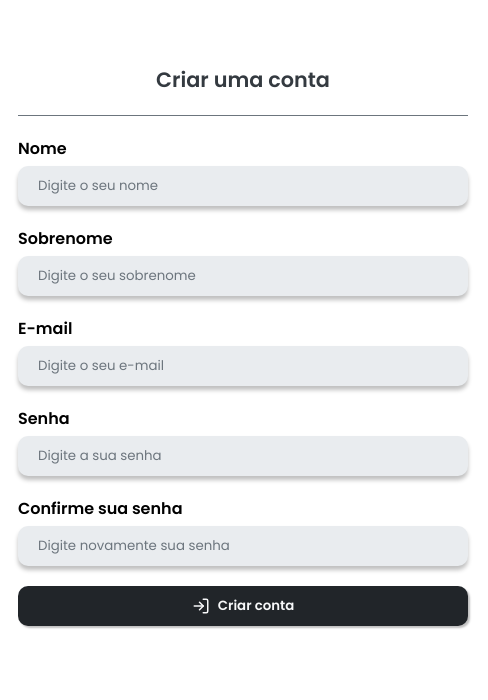
Test: Sign Up › should show error when password and password confirmation are different
Type "12345678" into the password field with placeholder "Digite a sua senha". click: (243, 456)
box: [18,436,468,476]
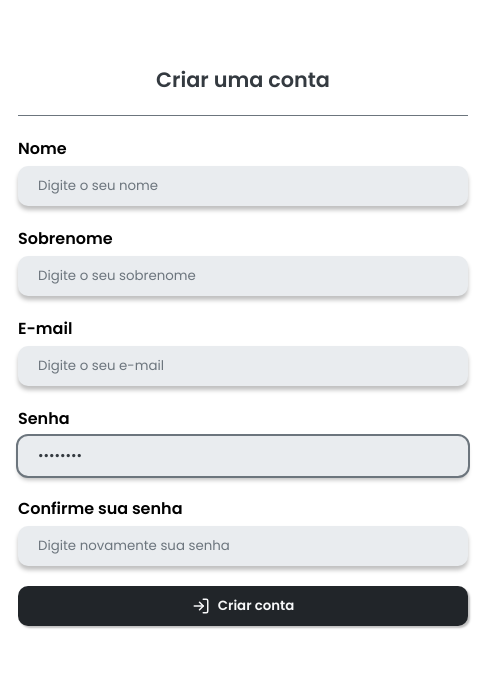
Type "1234567890" into the password field with placeholder "Digite novamente sua senha". click: (243, 546)
box: [18,526,468,566]
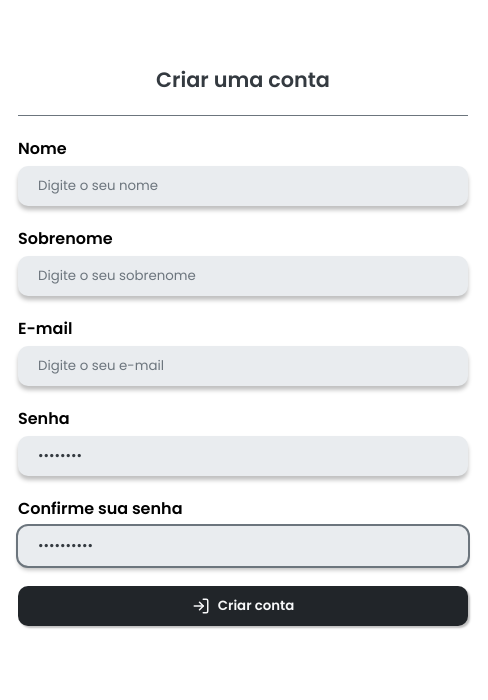
Click the button "Criar conta". click: (243, 606)
box: [18,586,468,626]
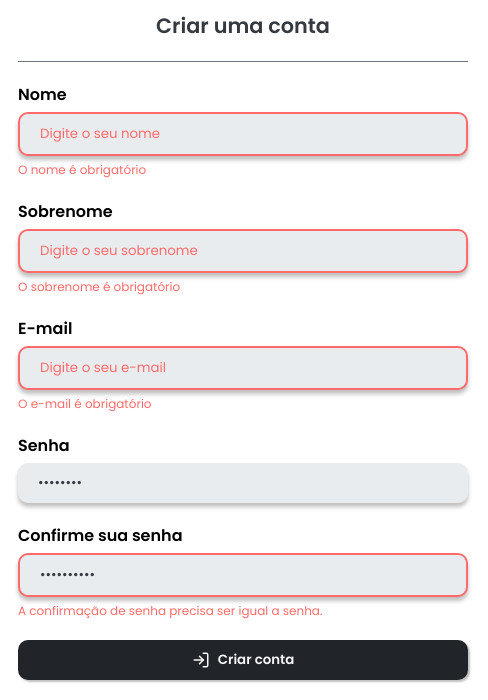
Result: the text "A confirmação de senha precisa ser igual a senha." is shown at [18,602,322,619]
